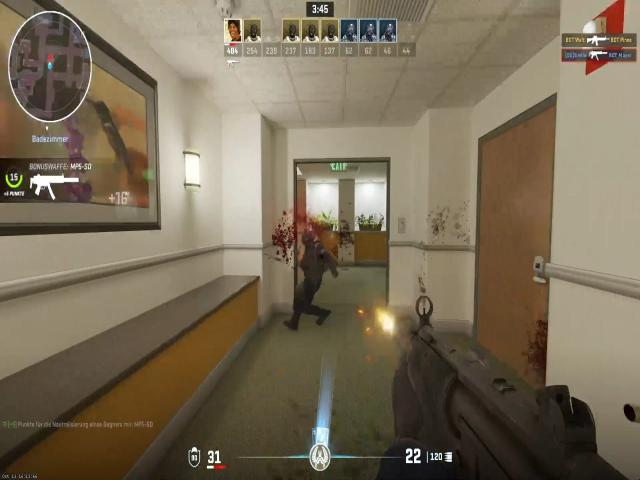Dead: (293, 223, 339, 343)
